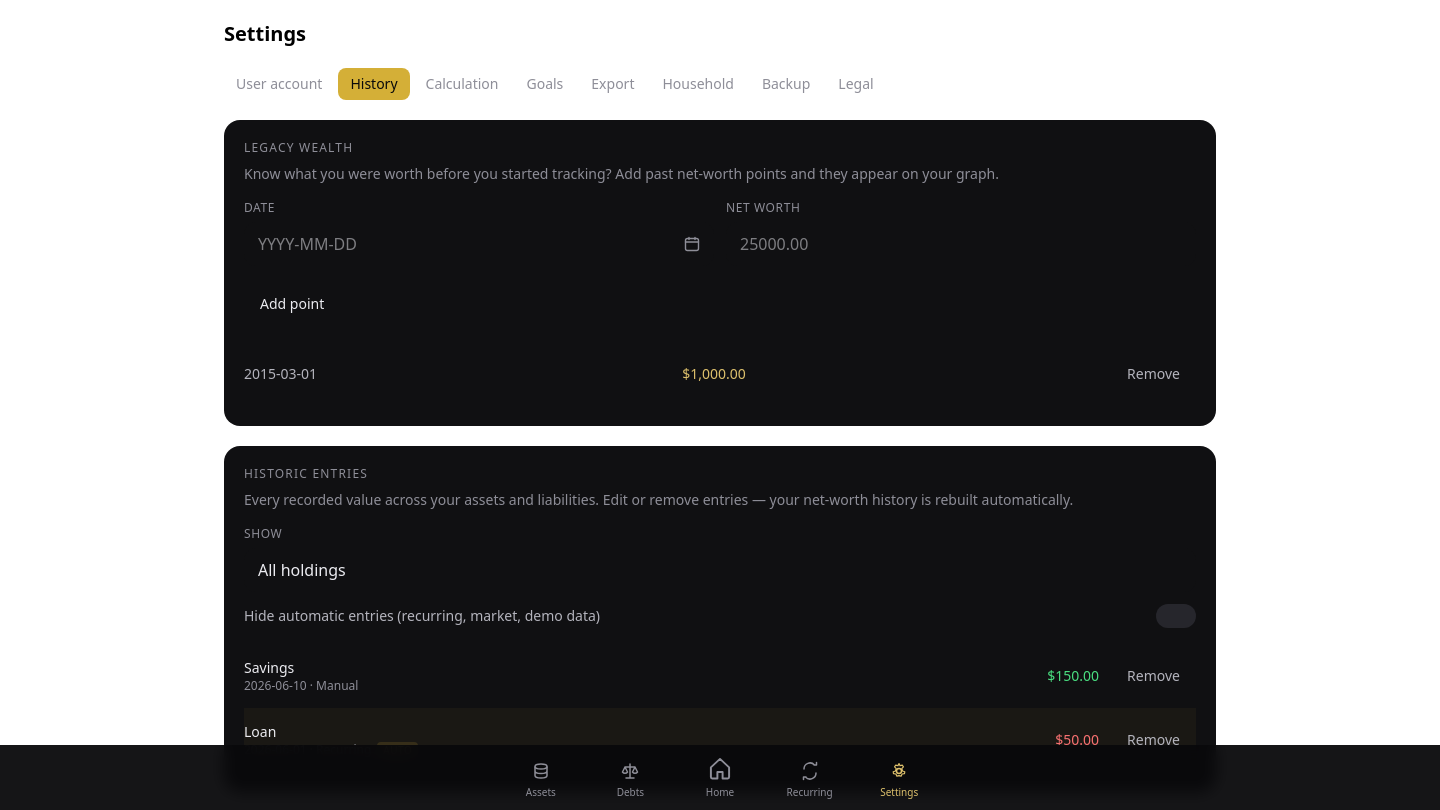
Test case: settings history features › marks automatic entries and hides them on toggle
expect the text "Savings" is shown: met, box [244, 658, 294, 677]
expect the text "Loan" is shown: met, box [244, 722, 276, 741]
Click the checkbox labelled "Hide automatic entries (recurring, market, demo data)" at [422, 616], box [244, 604, 1196, 628]
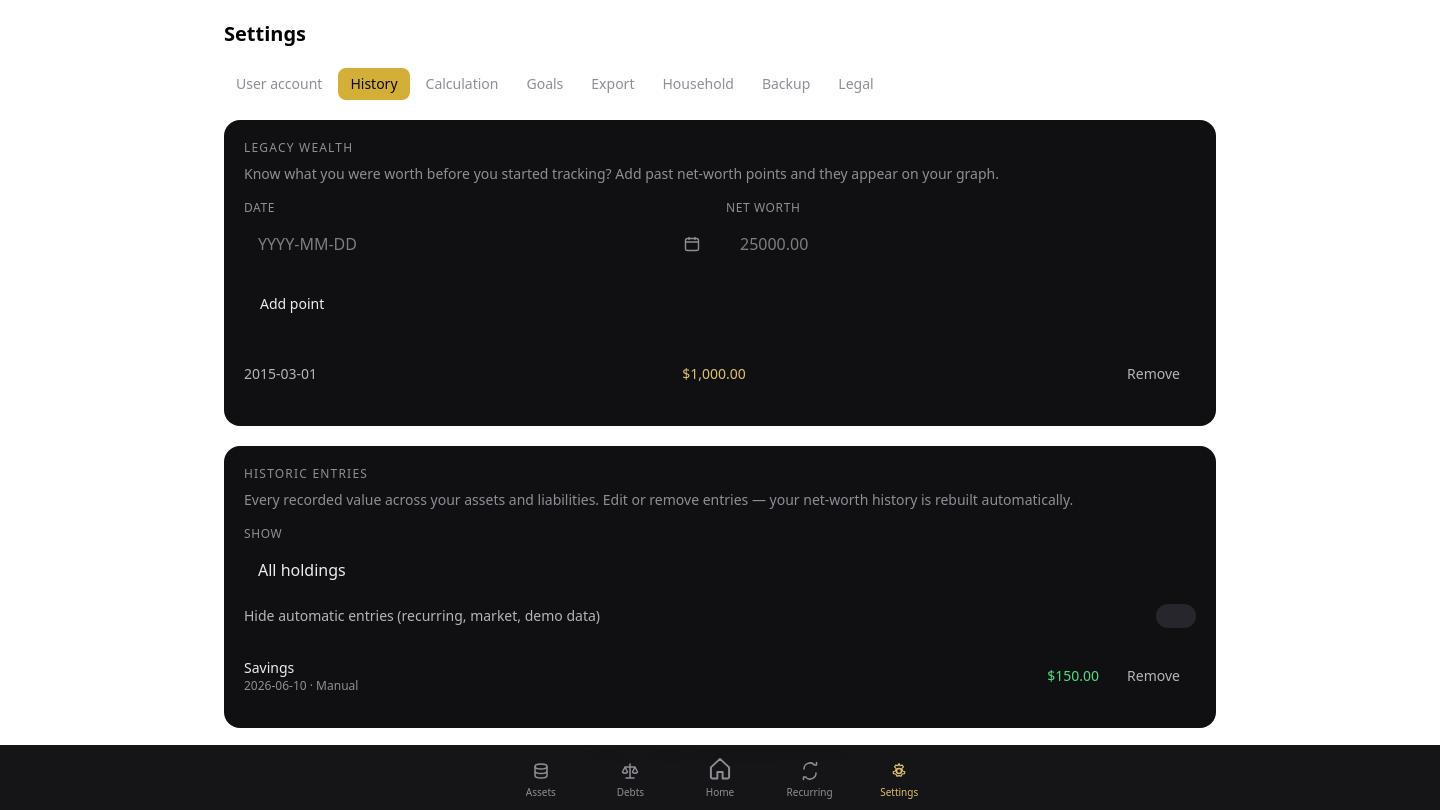
expect the text "Savings" is shown: met, box [244, 658, 294, 677]
expect the button "Loan" is gone: met
